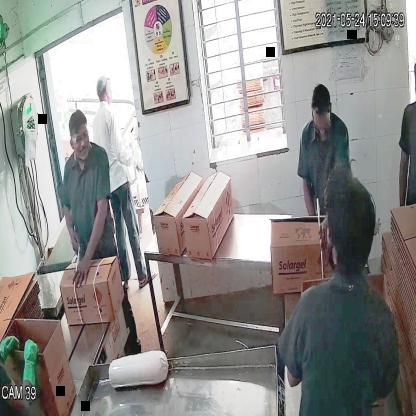goggles: (66, 129, 92, 146)
